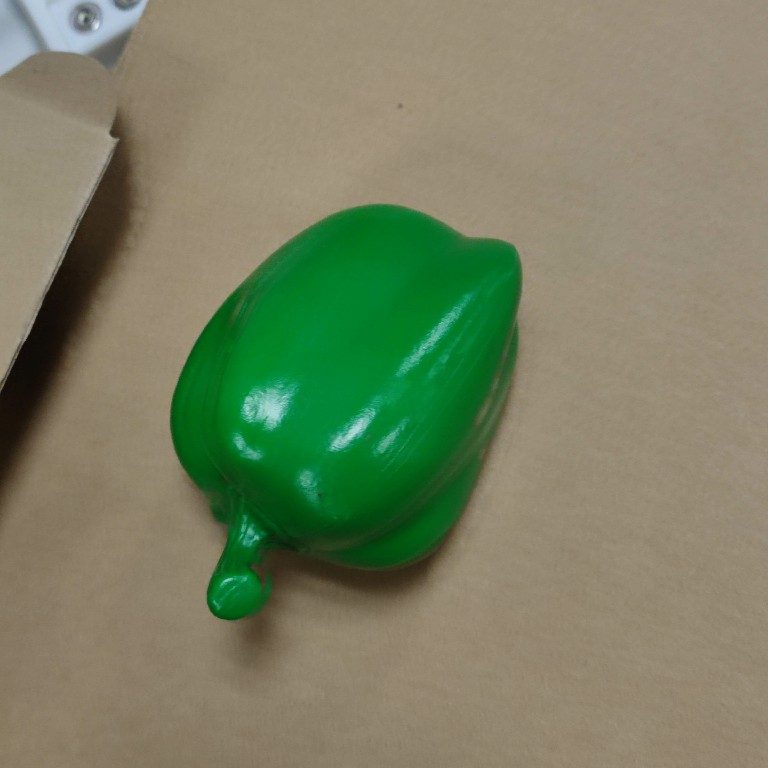fruit_pepper: (165, 192, 534, 628)
